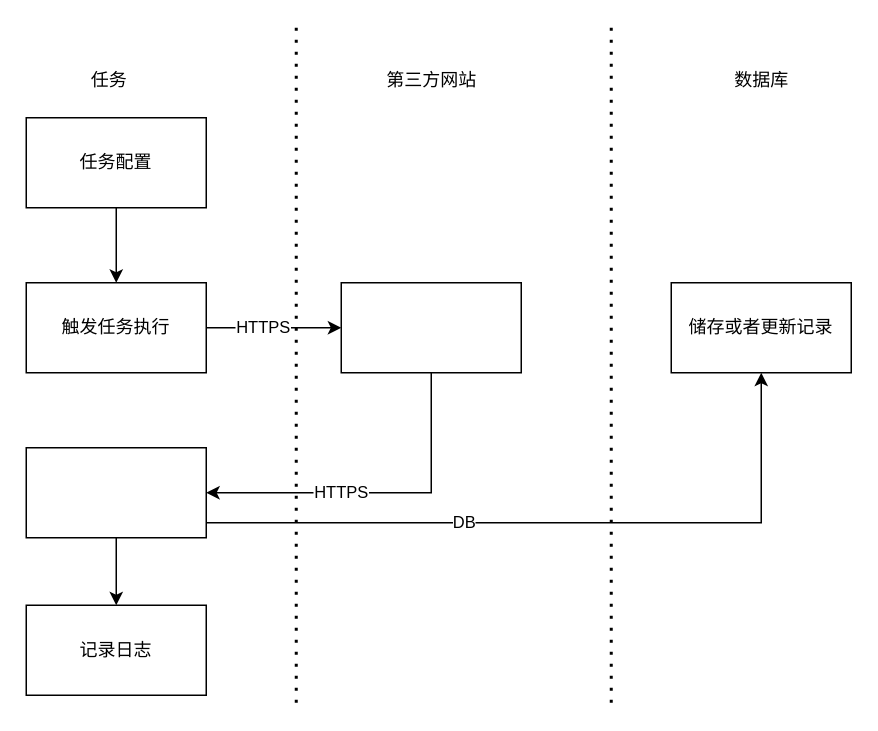
This 878x731 diagram has some shape labels left out. Here are the shapes that lost their labels. From the top down, the centre of each, then its label:
pixel 430 327: 获取网页内容
pixel 115 492: BS4解析HTML
